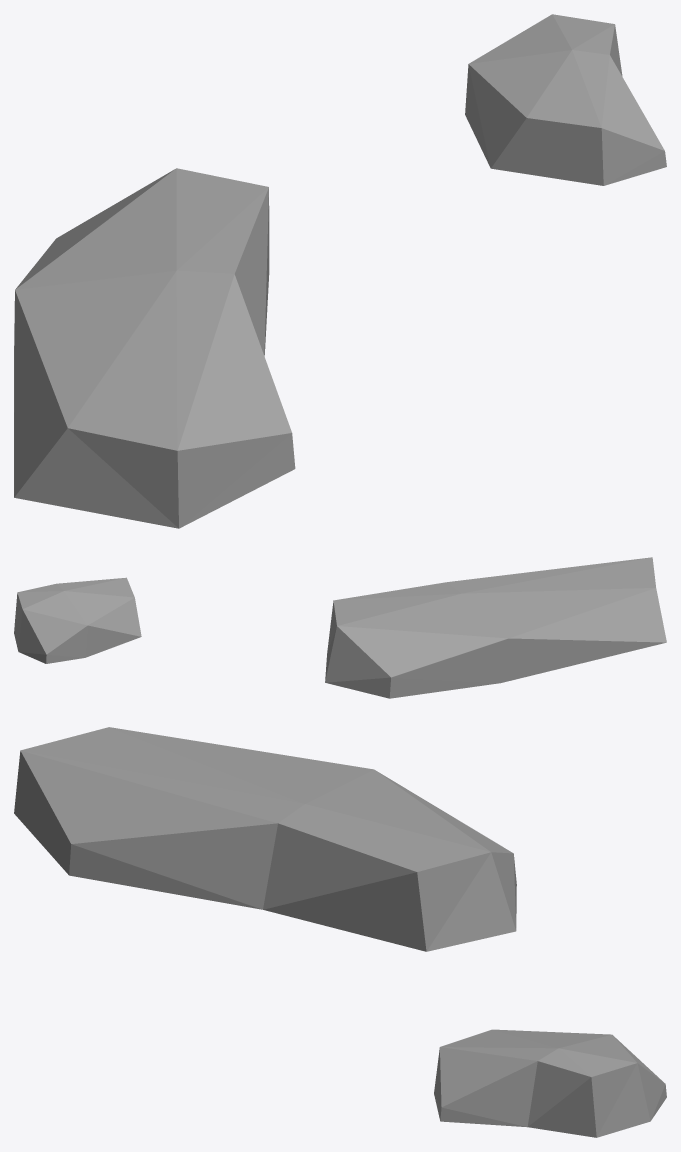
Rendered from Isl_12_Rocks_1.fbx.
3 renders of one model, top to bottom at view 1: azimuth 30°, elevation 25°; view 2: azimuth 150°, elevation 25°; view 3: azimuth 270°, elevation 25°, orthographic. The views are drawn at different scales.
Parts seen in each view (by area): view 1: Isl_12_Rocks_1; view 2: Isl_12_Rocks_1; view 3: Isl_12_Rocks_1.
Boxes of the visible parts, x1=… form: Isl_12_Rocks_1: x1=14, y1=14, x2=666, y2=528; Isl_12_Rocks_1: x1=14, y1=557, x2=666, y2=698; Isl_12_Rocks_1: x1=14, y1=727, x2=666, y2=1137.
Size of the model in its own units: 110 by 83.89 by 11.27.
1 material, 1 textured.
